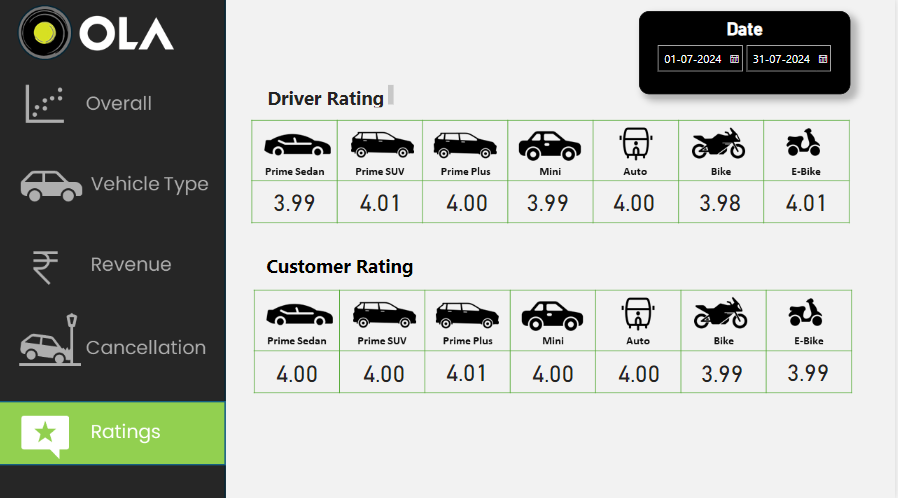

Layout of this report page (visuals, bound fields, positions):
{"tool":"powerbi","page":{"name":"Rating","canvas":[1280,720],"ordinal":4},"visuals":[{"type":"actionButton","box":[0,199.9,325.1,95.1],"z":0},{"type":"actionButton","box":[0,109.6,325.1,90.3],"z":1000},{"type":"actionButton","box":[0,337.1,325.1,83.1],"z":2000},{"type":"actionButton","box":[0,440.7,325.1,103.5],"z":3000},{"type":"card","fields":{"Values":["Avg(July.Driver_Ratings)"]},"box":[360.1,261.6,123.8,60.5],"z":3001},{"type":"card","fields":{"Values":["Avg(July.Driver_Ratings)"]},"box":[607.5,261.6,122.9,59.7],"z":3002},{"type":"card","fields":{"Values":["Avg(July.Driver_Ratings)"]},"box":[482.9,259.9,124.7,61.5],"z":3003},{"type":"card","fields":{"Values":["Avg(July.Driver_Ratings)"]},"box":[721.6,259.9,124.7,61.5],"z":3004},{"type":"card","fields":{"Values":["Avg(July.Driver_Ratings)"]},"box":[846.3,261.6,122.9,59.7],"z":3005},{"type":"card","fields":{"Values":["Avg(July.Driver_Ratings)"]},"box":[969.2,259.9,122.9,61.5],"z":3006},{"type":"card","fields":{"Values":["Avg(July.Driver_Ratings)"]},"box":[1092.1,259.9,124.7,61.5],"z":3007},{"type":"card","fields":{"Values":["Avg(July.Customer_Rating)"]},"box":[365,503.9,122.9,61.5],"z":3008},{"type":"card","fields":{"Values":["Avg(July.Customer_Rating)"]},"box":[853.3,503.9,122.9,61.5],"z":3009},{"type":"card","fields":{"Values":["Avg(July.Customer_Rating)"]},"box":[730.4,503.9,122.9,61.5],"z":3010},{"type":"card","fields":{"Values":["Avg(July.Customer_Rating)"]},"box":[607.5,502.2,122.9,61.5],"z":3011},{"type":"card","fields":{"Values":["Avg(July.Customer_Rating)"]},"box":[488.1,503.9,122.9,61.5],"z":3012},{"type":"card","fields":{"Values":["Avg(July.Customer_Rating)"]},"box":[971,503.9,122.9,61.5],"z":3013},{"type":"card","fields":{"Values":["Avg(July.Customer_Rating)"]},"box":[1093.9,502.2,122.9,61.5],"z":3014},{"type":"textbox","box":[365.2,108.9,216,59.7],"z":3015},{"type":"textbox","box":[365.2,359.9,242.3,59.7],"z":3016},{"type":"slicer","title":"Date","fields":{"Values":["July.Date"]},"box":[914.8,19.3,302,119.4],"z":3017}]}

Visuals, with their boxes on the page's 1280x720 design canvas (x1, y1, x2, y2). These are canvas units, not pixel positions in the 898x498 screenshot, which may show the page scaled, cropped or inside an application window:
actionButton: [left=0, top=200, right=325, bottom=295]
actionButton: [left=0, top=110, right=325, bottom=200]
actionButton: [left=0, top=337, right=325, bottom=420]
actionButton: [left=0, top=441, right=325, bottom=544]
card - Avg(July.Driver_Ratings): [left=360, top=262, right=484, bottom=322]
card - Avg(July.Driver_Ratings): [left=608, top=262, right=730, bottom=321]
card - Avg(July.Driver_Ratings): [left=483, top=260, right=608, bottom=321]
card - Avg(July.Driver_Ratings): [left=722, top=260, right=846, bottom=321]
card - Avg(July.Driver_Ratings): [left=846, top=262, right=969, bottom=321]
card - Avg(July.Driver_Ratings): [left=969, top=260, right=1092, bottom=321]
card - Avg(July.Driver_Ratings): [left=1092, top=260, right=1217, bottom=321]
card - Avg(July.Customer_Rating): [left=365, top=504, right=488, bottom=565]
card - Avg(July.Customer_Rating): [left=853, top=504, right=976, bottom=565]
card - Avg(July.Customer_Rating): [left=730, top=504, right=853, bottom=565]
card - Avg(July.Customer_Rating): [left=608, top=502, right=730, bottom=564]
card - Avg(July.Customer_Rating): [left=488, top=504, right=611, bottom=565]
card - Avg(July.Customer_Rating): [left=971, top=504, right=1094, bottom=565]
card - Avg(July.Customer_Rating): [left=1094, top=502, right=1217, bottom=564]
textbox: [left=365, top=109, right=581, bottom=169]
textbox: [left=365, top=360, right=608, bottom=420]
"Date" slicer: [left=915, top=19, right=1217, bottom=139]
